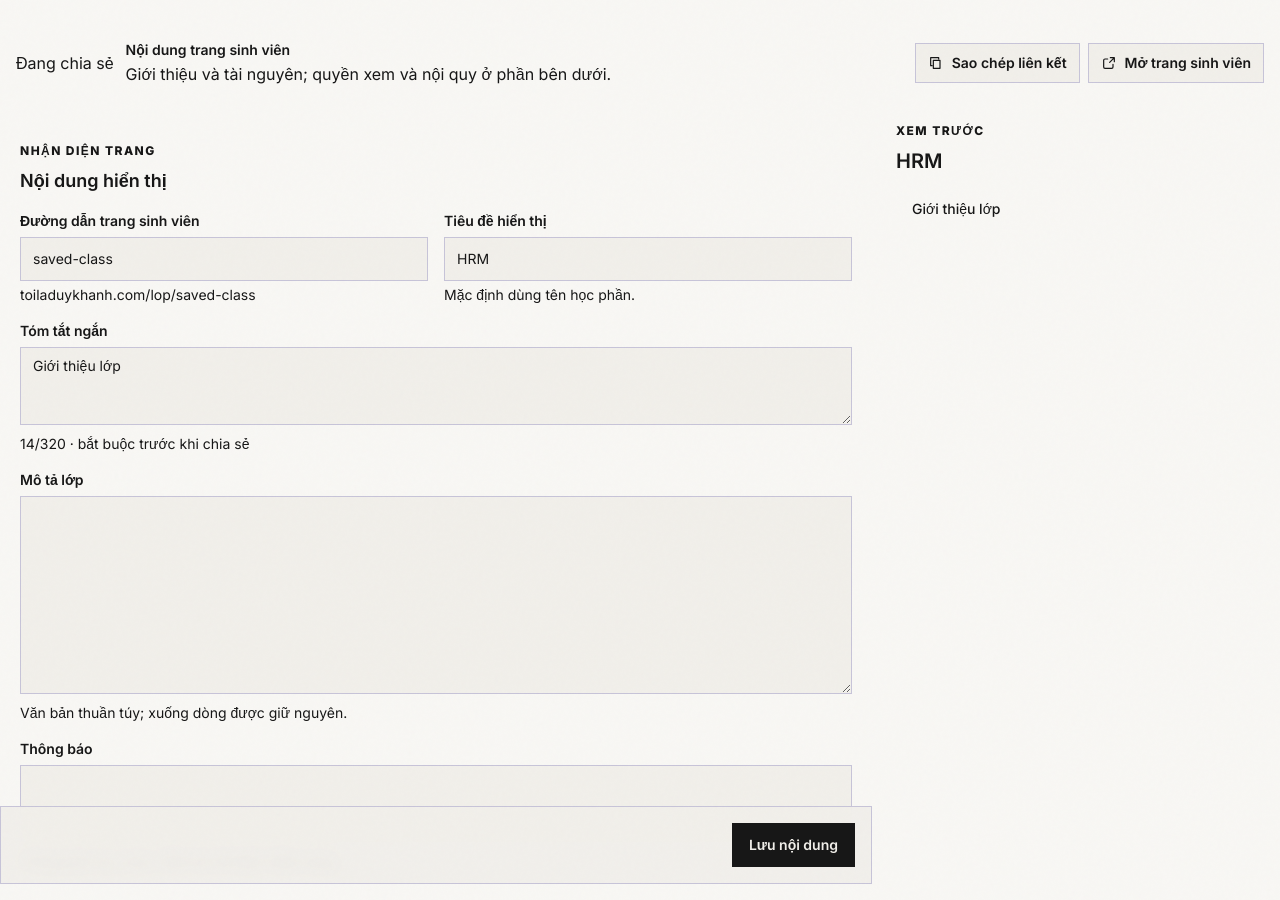
Test: saved student page settings › keeps both open links on the saved slug while editing, and retains duplicate-slug errors in the form
Replace the text in the field labelled "Đường dẫn trang sinh viên toiladuykhanh.com/lop/saved-class" with "duplicate" at point(224, 259), box [20, 237, 428, 281]
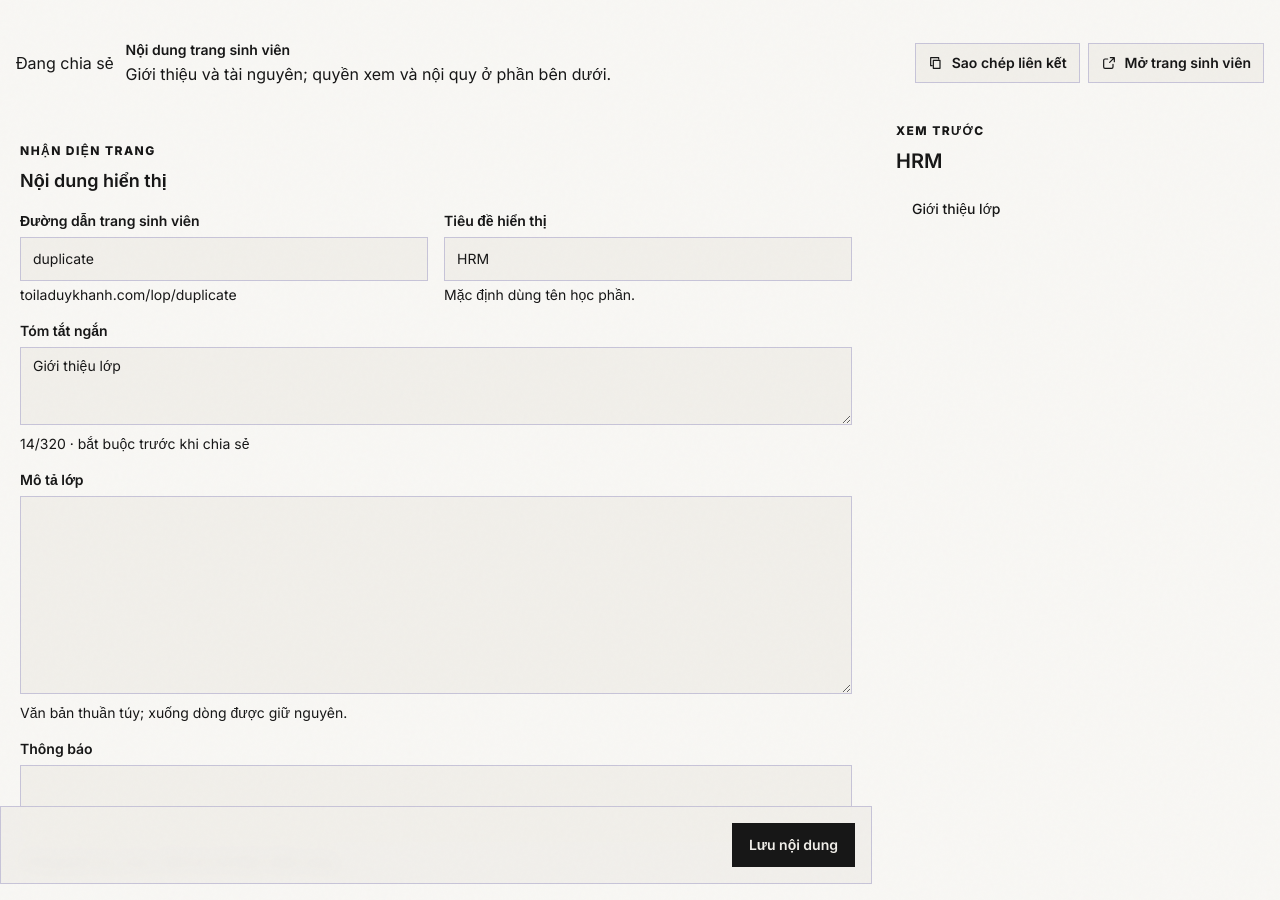
Click the button "Lưu nội dung" at point(793, 845), box [732, 823, 855, 867]
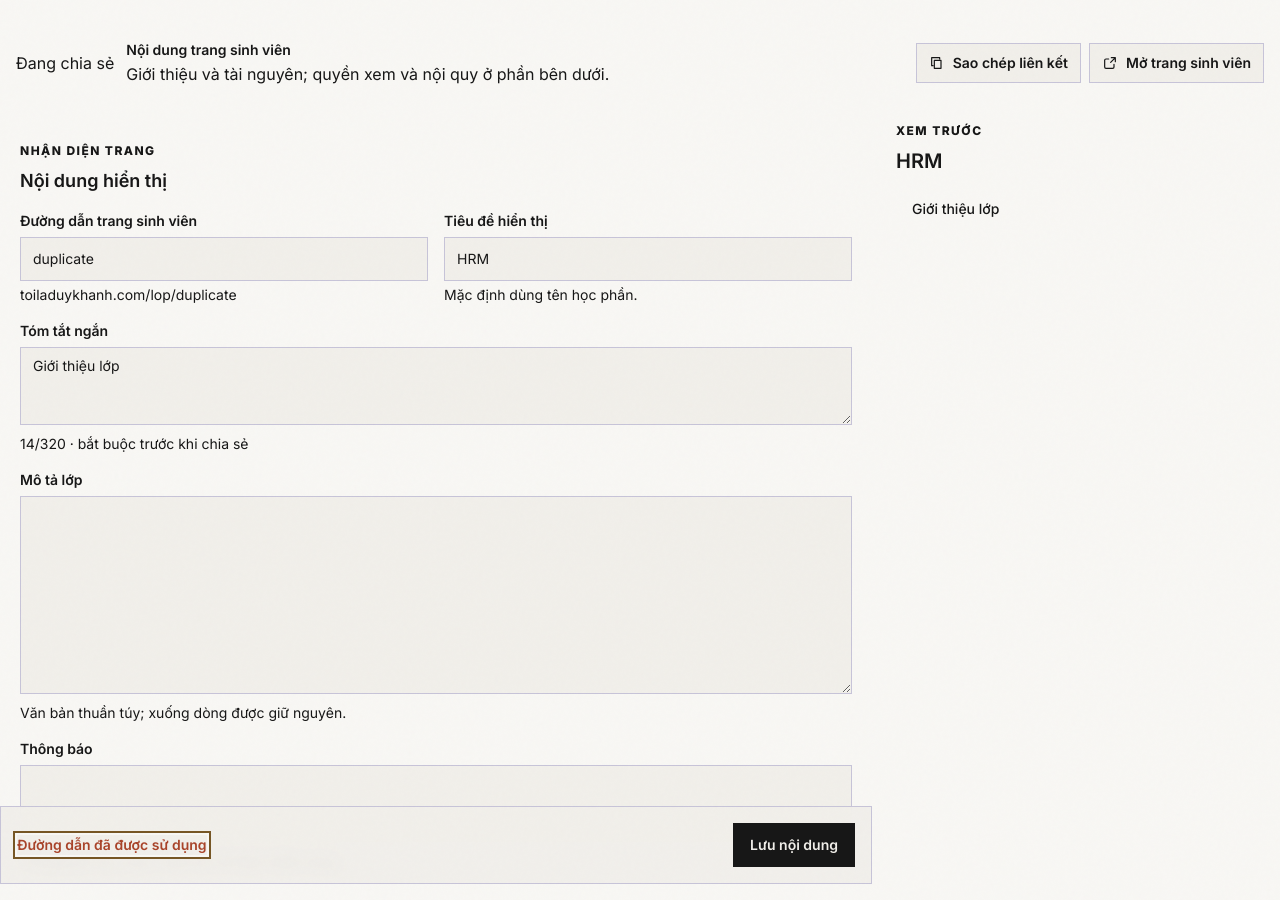
Now the message reads "Đường dẫn đã được sử dụng", box [17, 836, 207, 853]
